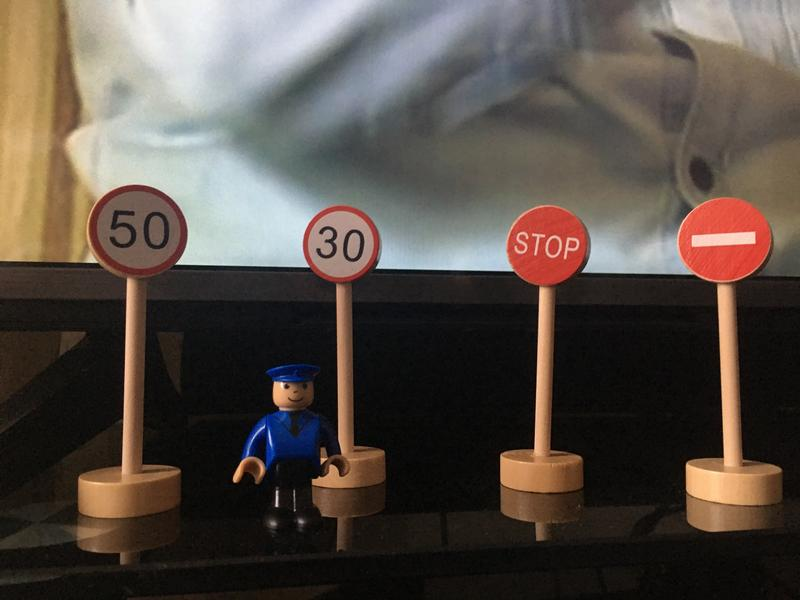Traffic_Sign_30: (304, 208, 378, 280)
Traffic_Sign_50: (88, 184, 188, 279)
Traffic_Sign_No_Entry: (678, 198, 772, 282)
Traffic_Sign_Stop: (508, 206, 589, 289)
person: (232, 364, 350, 533)
